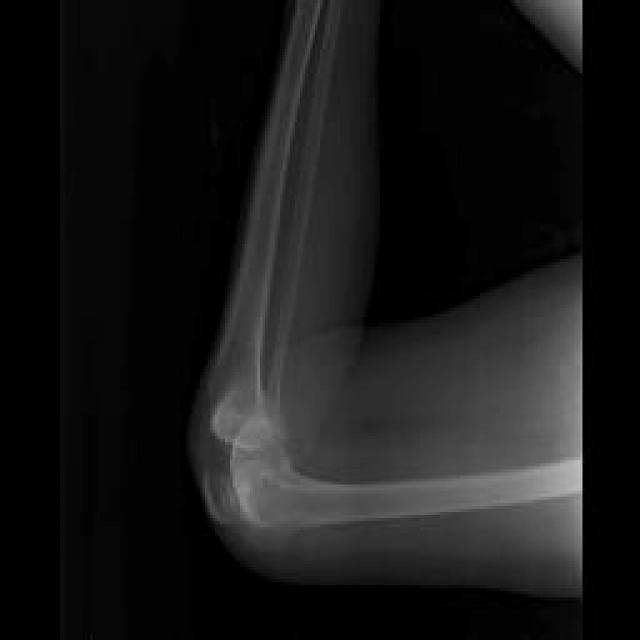normal: (204, 0, 580, 534)
